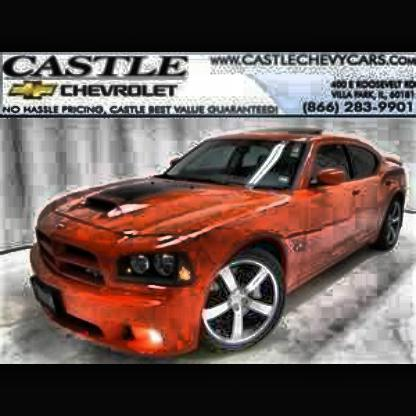Dodge Charger SRT-8 2009: (34, 135, 408, 359)
